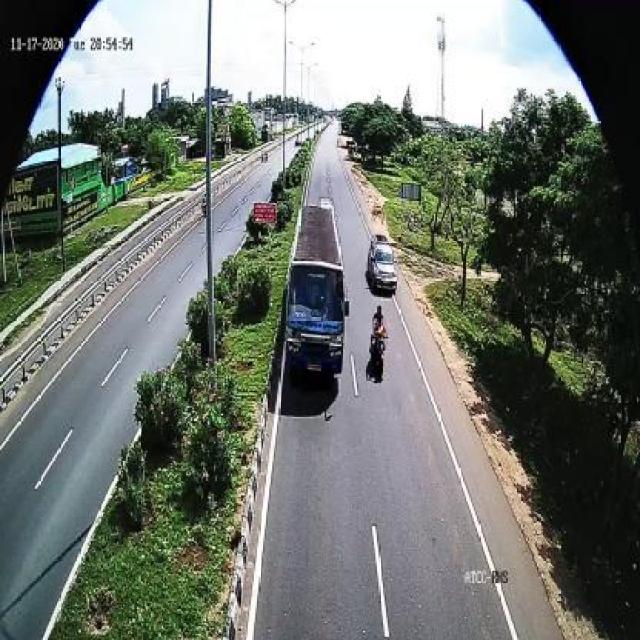car: (368, 231, 398, 295)
